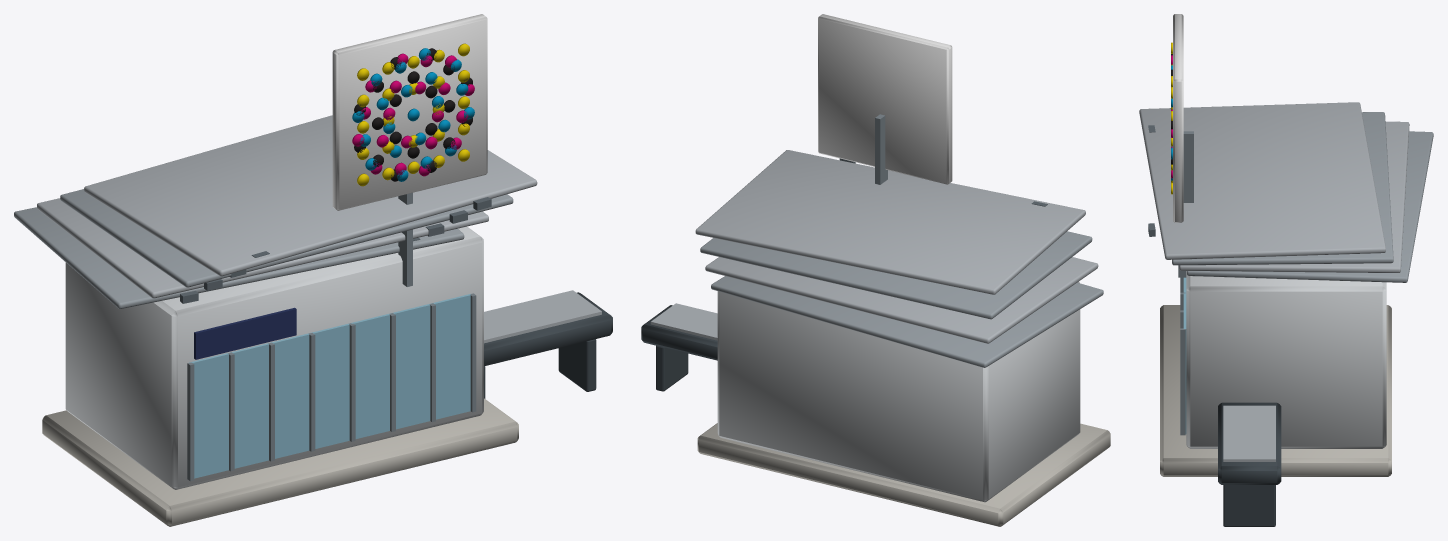
3 renders of one model, left to right at view 1: azimuth 30°, elevation 25°; view 2: azimuth 150°, elevation 25°; view 3: azimuth 270°, elevation 25°, orthographic. The views are drawn at different scales.
Parts seen in each view (by area): view 1: lm_06; view 2: lm_06; view 3: lm_06.
Part boxes in pixels (left/top/right/bottom): lm_06: left=14, top=14, right=612, bottom=526; lm_06: left=641, top=14, right=1110, bottom=526; lm_06: left=1139, top=14, right=1433, bottom=526.
Size of the model in its own units: 0.9895 by 0.81 by 0.5577.
